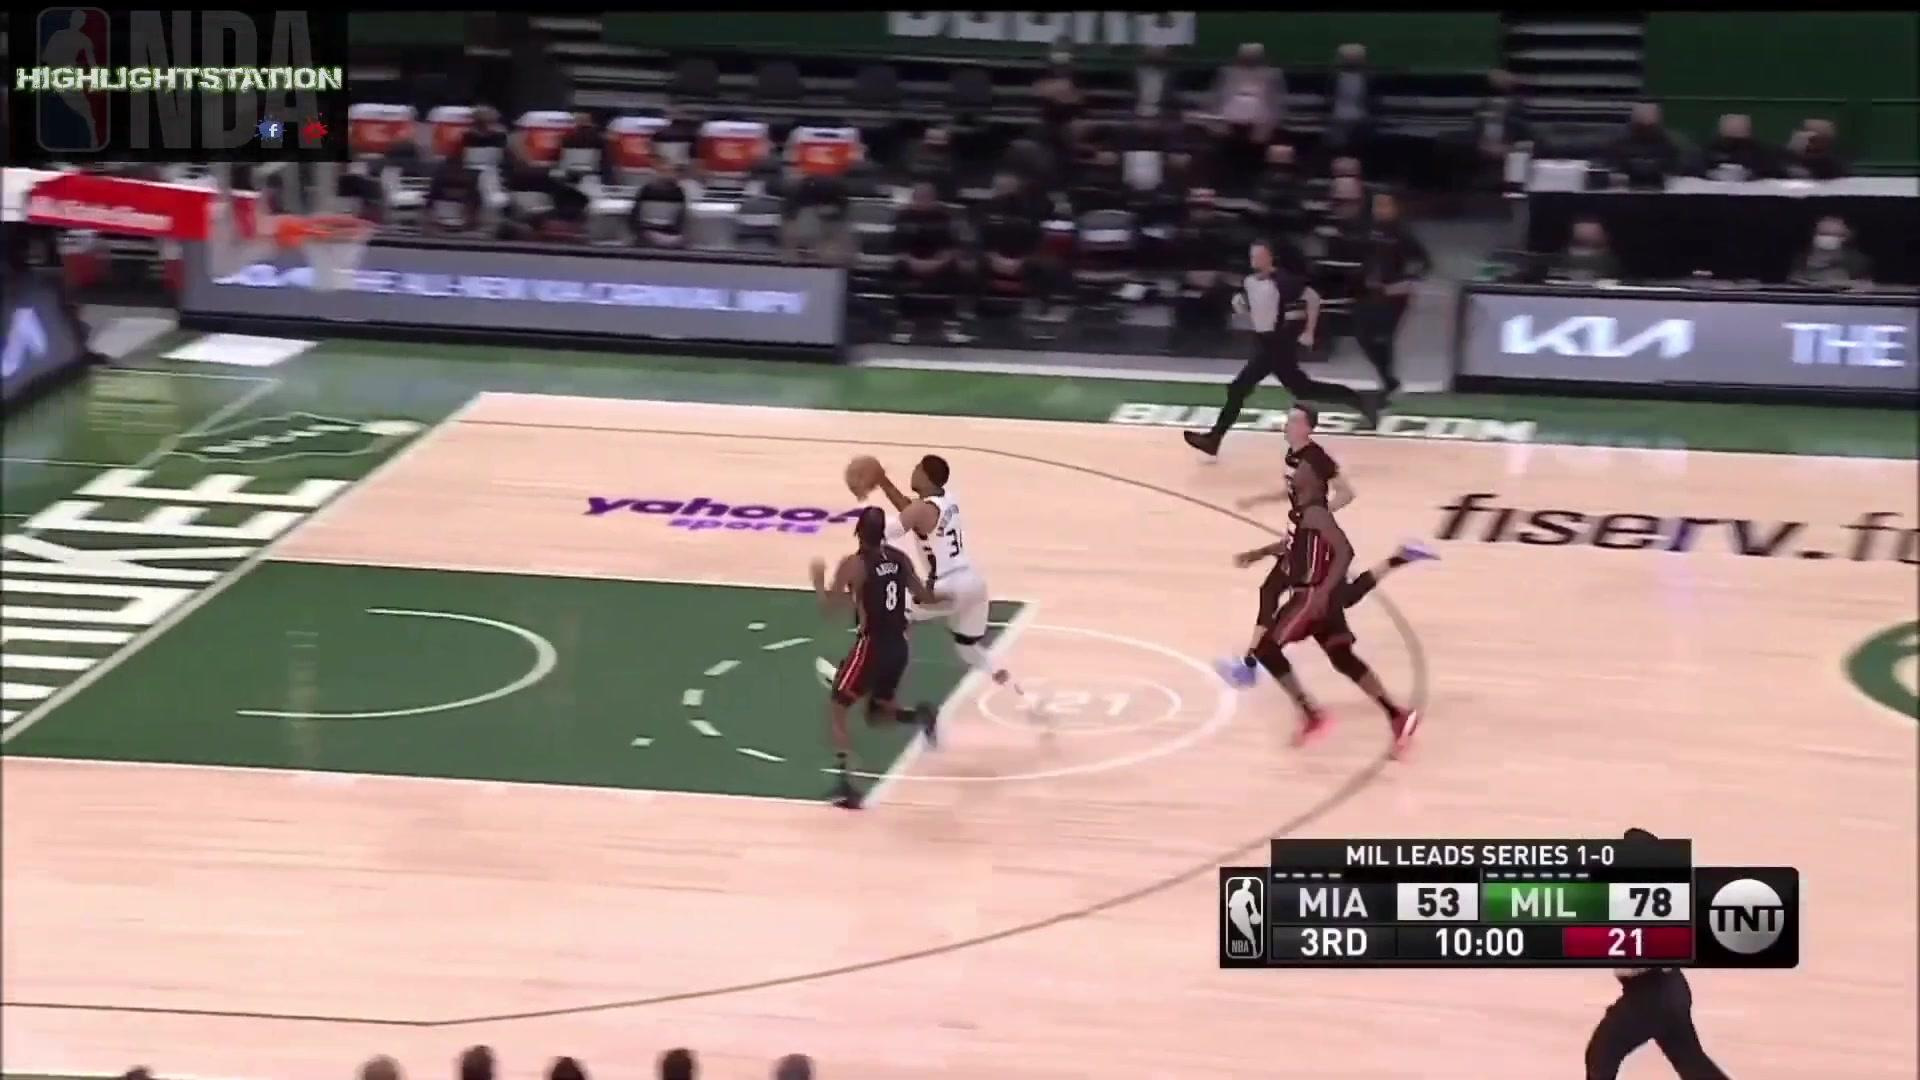no_foul: (791, 444, 1026, 802)
